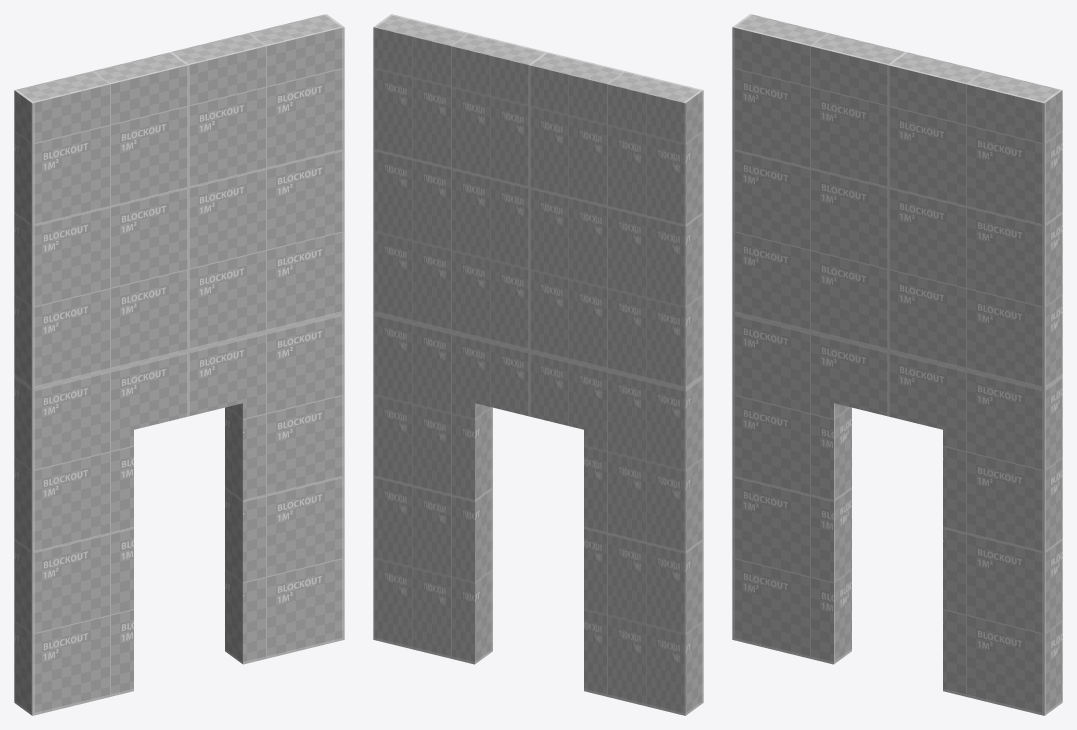
File: BlockoutThinWall04Door.fbx
3 views of the same model, side by side, from view 1: azimuth 30°, elevation 25°; view 2: azimuth 150°, elevation 25°; view 3: azimuth 330°, elevation 25° (orthographic).
Parts seen in each view (by area): view 1: BlockoutThinWall04Door; view 2: BlockoutThinWall04Door; view 3: BlockoutThinWall04Door.
Boxes of the visible parts, left/top/right/bottom form: BlockoutThinWall04Door: left=14, top=14, right=344, bottom=715; BlockoutThinWall04Door: left=373, top=14, right=703, bottom=715; BlockoutThinWall04Door: left=732, top=14, right=1062, bottom=715.
Bounding box in the file's own units: 400 × 750 × 40.
